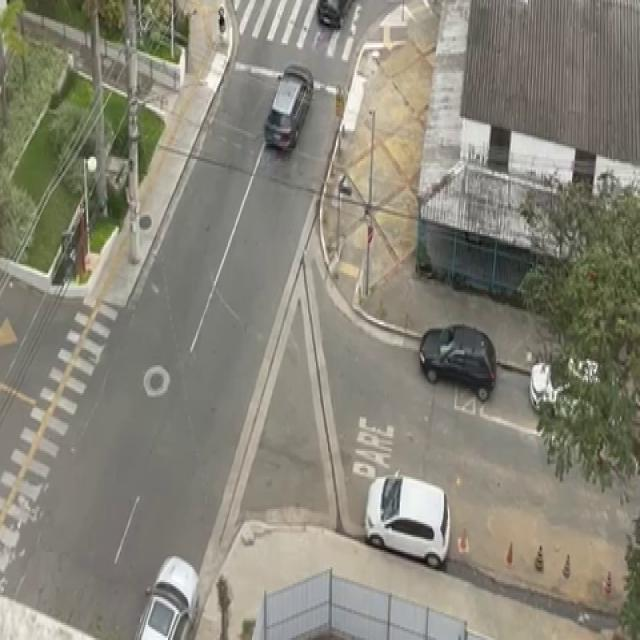car: (361, 466, 452, 576), (527, 351, 632, 436), (414, 316, 502, 404), (131, 552, 208, 640), (260, 64, 316, 163), (315, 0, 353, 32)
